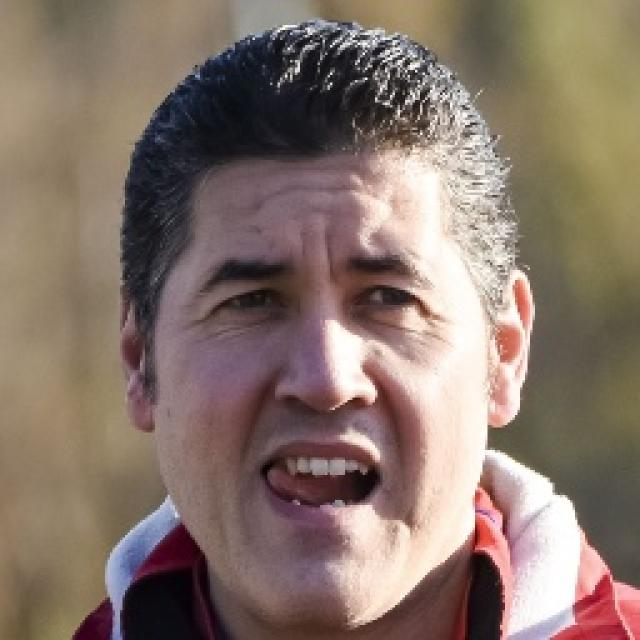earlobe: (488, 269, 538, 429), (118, 280, 157, 434)
